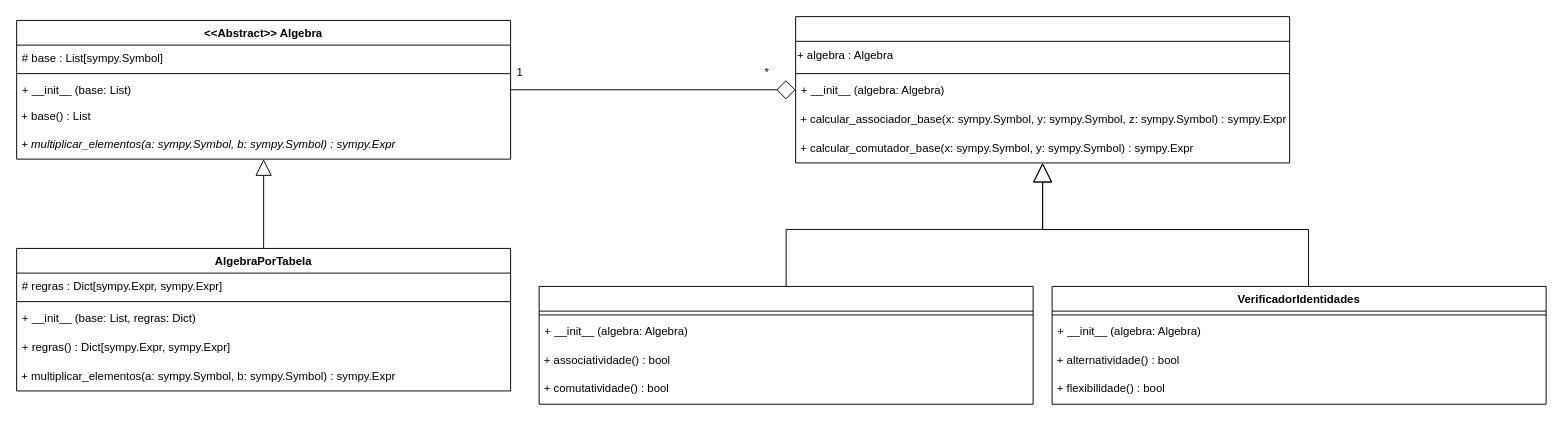
Some shapes in this 1563 by 421 pixel diagram are drawn without their labels. Here are the shapes that lost their labels. From the top down, the box of each, then its label:
(795, 16, 1290, 163): AvaliadorAlgebrico
(538, 285, 1033, 404): VerificadorAxiomas
